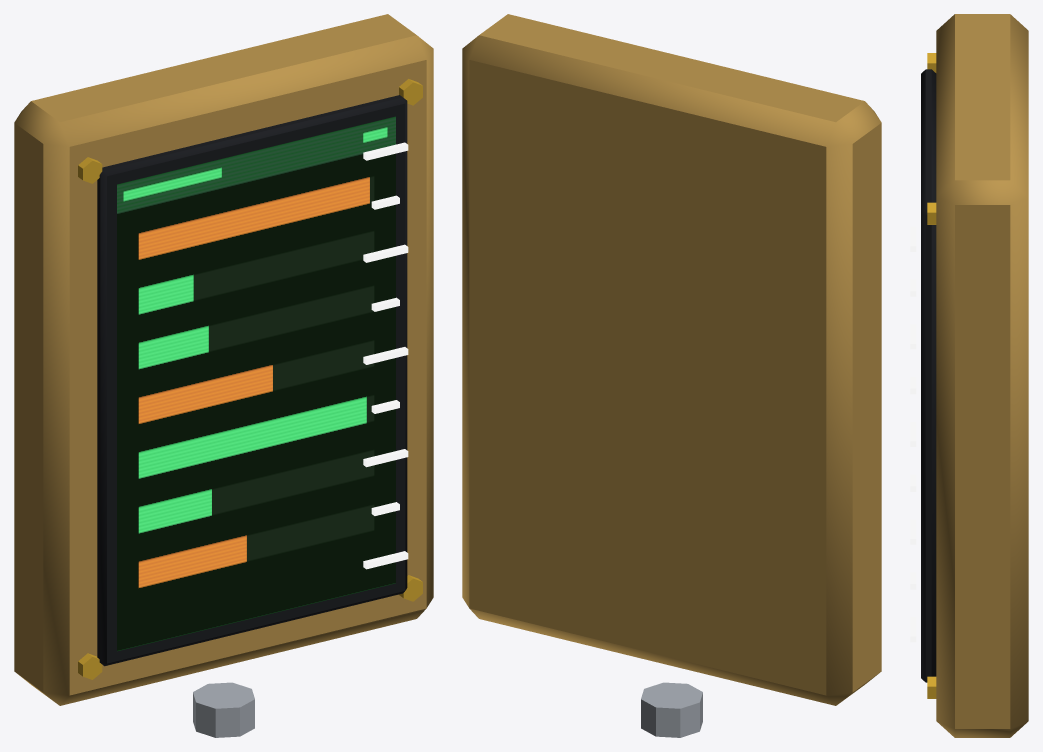
The model's file is instrument_depth_meter.glb.
3 renders of one model, left to right at view 1: azimuth 30°, elevation 25°; view 2: azimuth 150°, elevation 25°; view 3: azimuth 270°, elevation 25°, orthographic. The views are drawn at different scales.
Parts seen in each view (by area): view 1: instrument_depth_meter; view 2: instrument_depth_meter; view 3: instrument_depth_meter.
Boxes of the visible parts, x1,y1,x2,y2 form: instrument_depth_meter: [14, 14, 433, 737]; instrument_depth_meter: [462, 14, 881, 737]; instrument_depth_meter: [910, 14, 1028, 737].
Bounding box in the file's own units: 0.28 × 0.45 × 0.077.
Materials: 6 (1 with a texture image).
